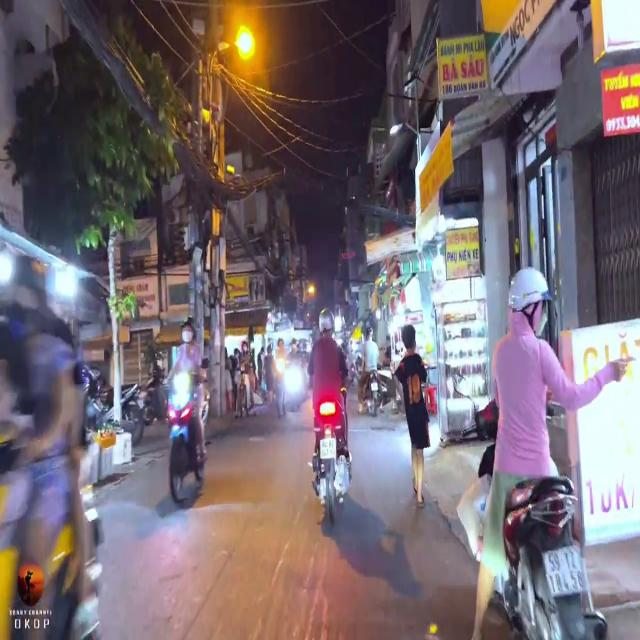bien_trang: (541, 552, 585, 595)
